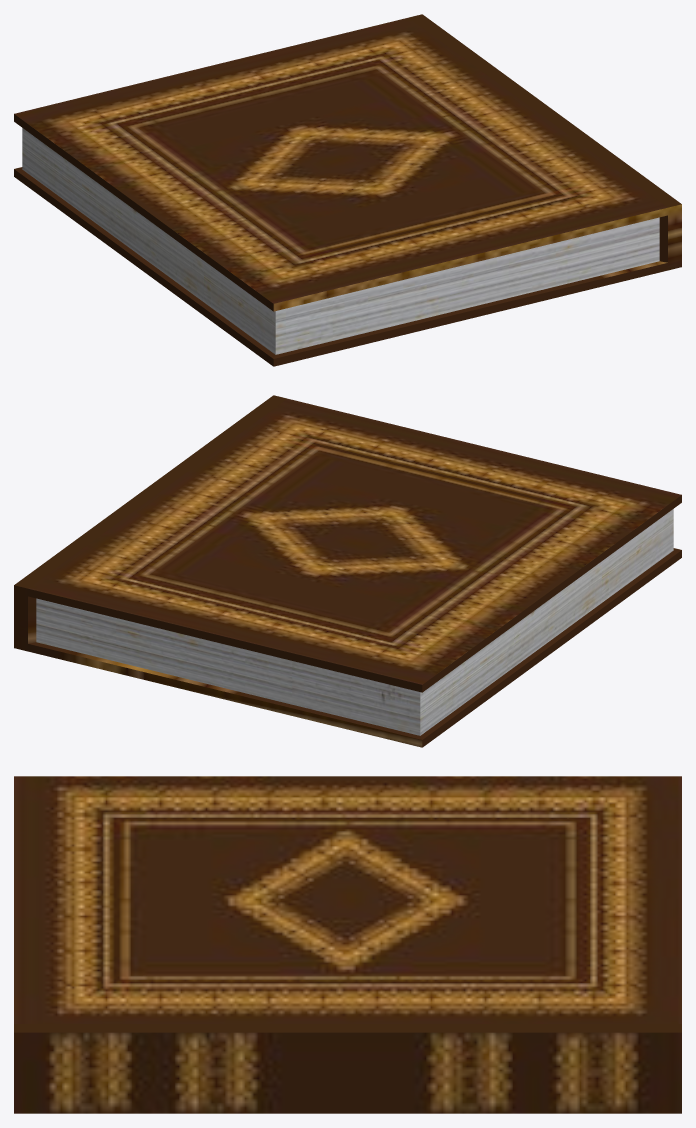
File: livromarrom.fbx
3 renders of one model, top to bottom at view 1: azimuth 30°, elevation 25°; view 2: azimuth 150°, elevation 25°; view 3: azimuth 270°, elevation 25°, orthographic. The views are drawn at different scales.
Visible parts, largest first — view 1: Cube.001; view 2: Cube.001; view 3: Cube.001.
Part boxes in pixels (x1,y1,x2,y2): Cube.001: [14, 14, 681, 366]; Cube.001: [14, 395, 681, 747]; Cube.001: [14, 776, 681, 1113].
Size of the model in its own units: 25.93 by 3.85 by 28.55.
